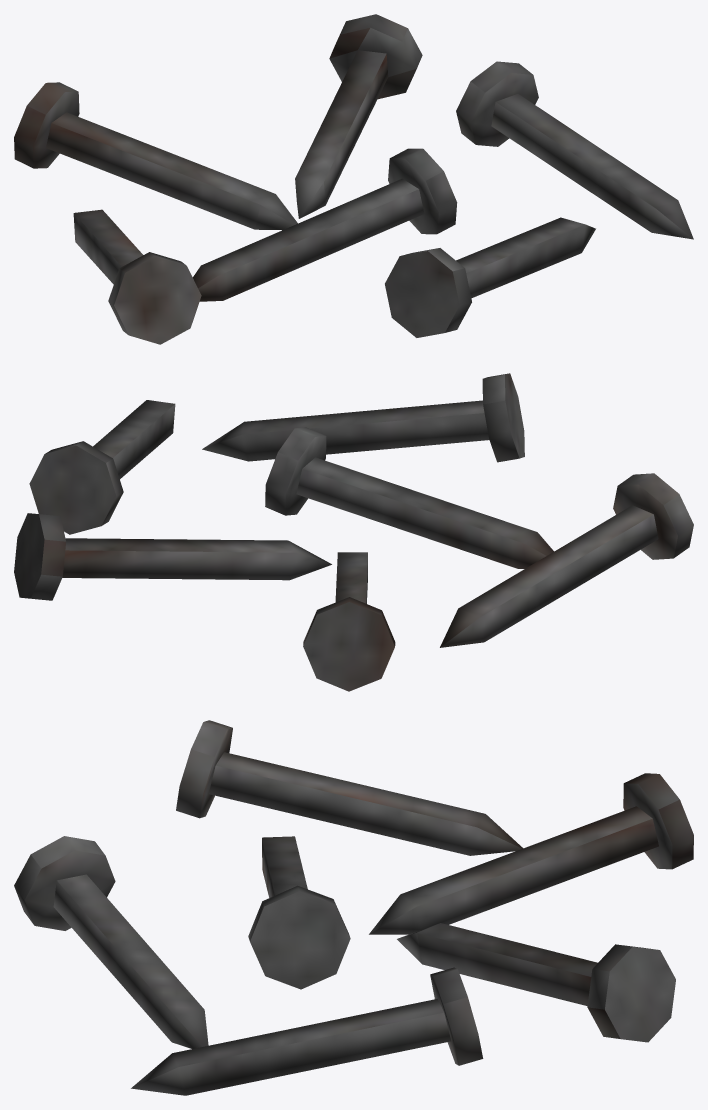
File: nails_1.obj
3 views of the same model, one above another, from view 1: azimuth 30°, elevation 25°; view 2: azimuth 150°, elevation 25°; view 3: azimuth 270°, elevation 25° (orthographic). The views are drawn at different scales.
Parts seen in each view (by area): view 1: nails_1; view 2: nails_1; view 3: nails_1.
Part boxes in pixels (left/top/right/bottom): nails_1: left=14, top=14, right=693, bottom=344; nails_1: left=14, top=373, right=693, bottom=691; nails_1: left=14, top=720, right=693, bottom=1095.
Size of the model in its own units: 0.1405 by 0.0211 by 0.1348.
